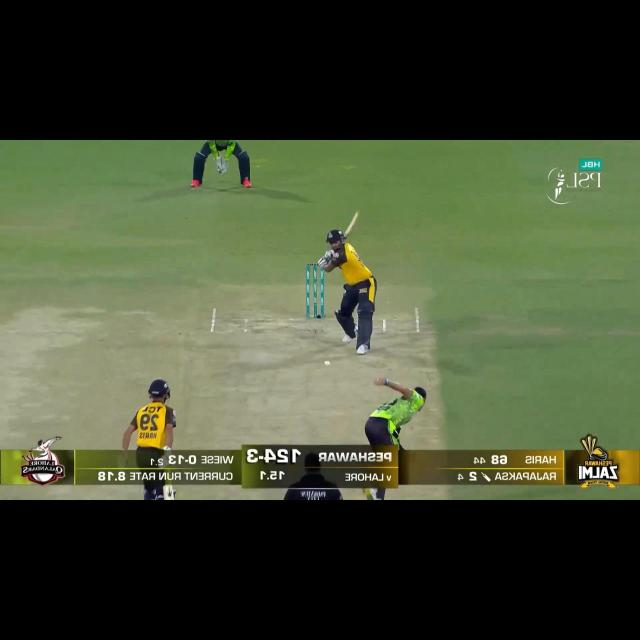bat: (343, 212, 358, 240), (163, 485, 175, 500)
toe: (350, 211, 359, 225)
